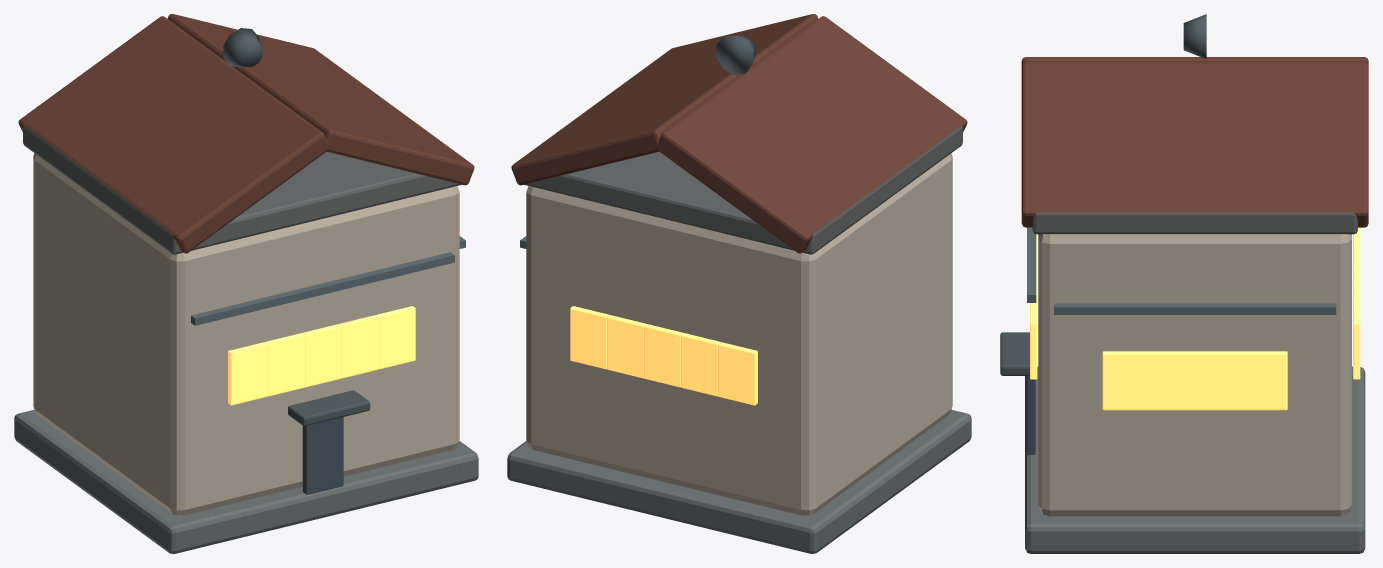
File: residential_cottage_corner.glb
3 renders of one model, left to right at view 1: azimuth 30°, elevation 25°; view 2: azimuth 150°, elevation 25°; view 3: azimuth 270°, elevation 25°, orthographic. The views are drawn at different scales.
Visible parts, largest first — view 1: main_massing, sloped_roof, foundation, sloped_roof.001, roof_slab, facade_band_front, entry_door, front_window, front_window.004, front_window.001, front_window.002, front_window.003 (+2 smaller); view 2: main_massing, sloped_roof, foundation, sloped_roof.001, roof_slab, rear_window, rear_window.004, rear_window.001, rear_window.002, rear_window.003, roof_vent_cap; view 3: main_massing, sloped_roof.001, foundation, roof_slab, facade_band_side, side_window, side_window.003, side_window.002, side_window.001, sloped_roof, entry_canopy, roof_vent_cap (+4 smaller).
Part boxes in pixels (x1,y1,x2,y2): main_massing: (33,153,459,515); sloped_roof: (18,16,328,253); foundation: (14,409,478,553); sloped_roof.001: (167,14,474,185); roof_slab: (23,125,469,254); facade_band_front: (191,252,454,325); entry_door: (302,417,343,494); front_window: (228,342,267,405); front_window.004: (376,306,415,369); front_window.001: (265,333,304,396); front_window.002: (302,324,341,387); front_window.003: (339,315,378,378); main_massing: (526,153,952,515); sloped_roof: (657,16,967,253); foundation: (507,409,971,553); sloped_roof.001: (511,14,818,185); roof_slab: (516,125,962,254); rear_window: (718,342,757,405); rear_window.004: (570,306,609,369); rear_window.001: (681,333,720,396); rear_window.002: (644,324,683,387); rear_window.003: (607,315,646,378); roof_vent_cap: (716,35,755,74); main_massing: (1038,234,1351,516); sloped_roof.001: (1021,62,1368,227); foundation: (1025,366,1365,553); roof_slab: (1032,212,1357,234); facade_band_side: (1054,303,1336,314); side_window: (1240,351,1287,410); side_window.003: (1102,351,1149,410); side_window.002: (1149,351,1195,410); side_window.001: (1195,351,1240,410); sloped_roof: (1021,57,1368,65); entry_canopy: (1000,332,1029,375); roof_vent_cap: (1183,14,1206,58).
Bounding box in the file's own units: 1.16 × 1.54 × 1.12.
